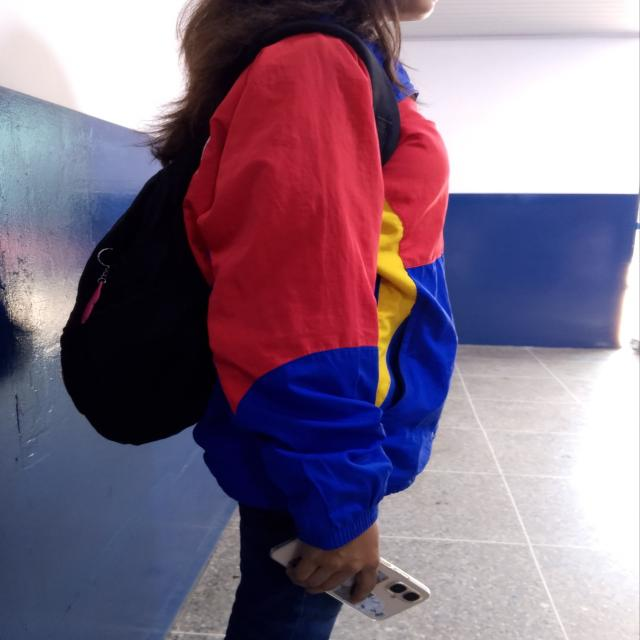chaqueta_unefa: (181, 28, 459, 553)
